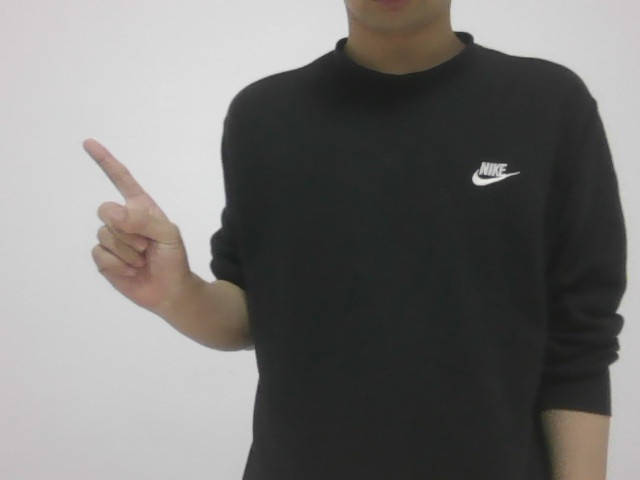what: (66, 130, 197, 337)
